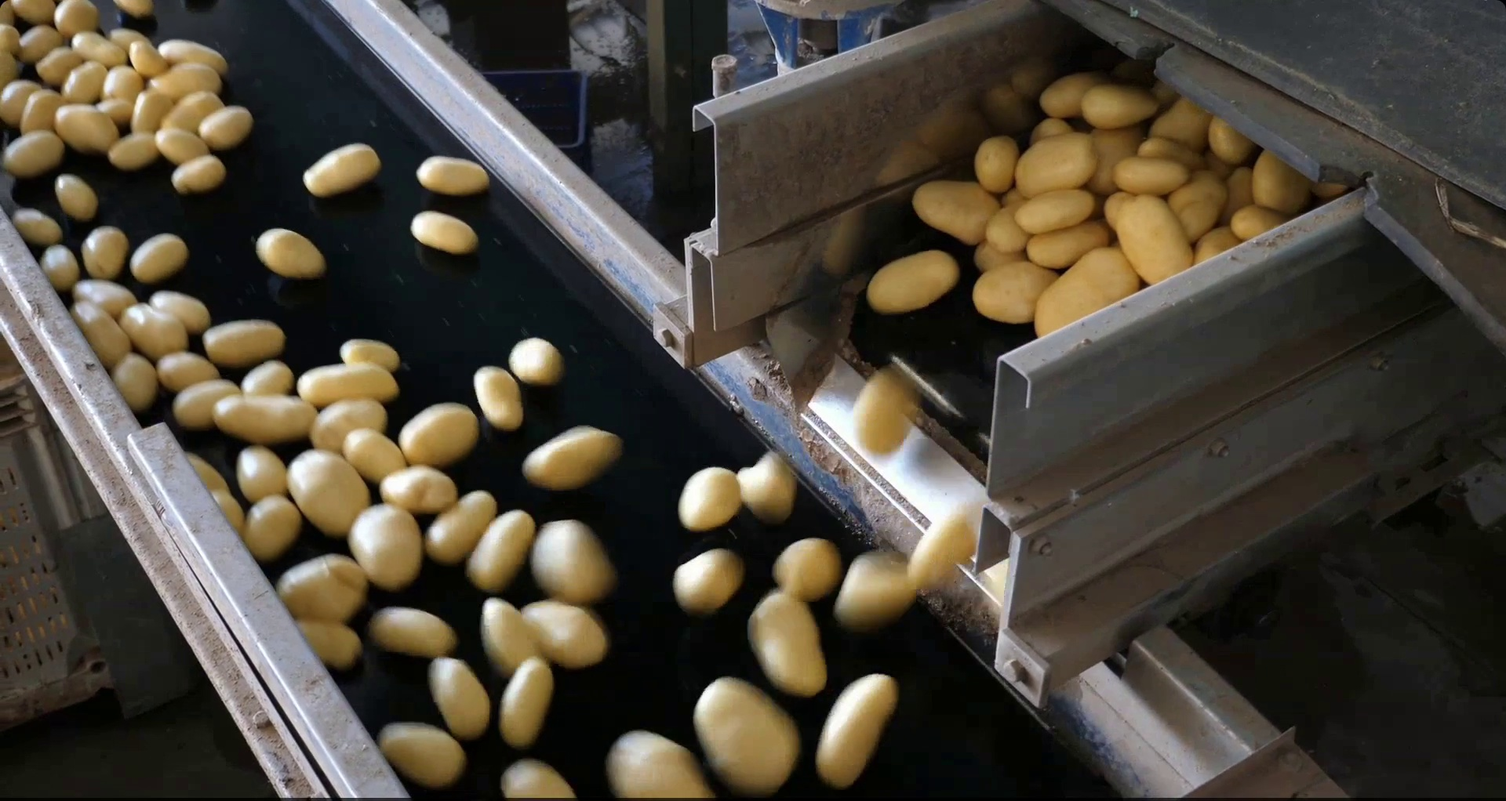potato: (686, 669, 807, 801), (1024, 241, 1150, 343), (806, 669, 906, 793), (740, 582, 831, 700), (596, 723, 721, 801), (902, 499, 986, 602), (829, 540, 921, 634), (517, 421, 630, 496), (1113, 187, 1199, 285), (526, 513, 619, 603), (283, 446, 372, 538), (515, 590, 610, 674), (660, 543, 761, 622), (856, 243, 963, 317), (847, 357, 922, 462), (372, 714, 474, 789), (907, 171, 1002, 251), (345, 494, 420, 592), (419, 485, 500, 575), (272, 551, 371, 624), (491, 652, 560, 753), (968, 256, 1066, 326), (465, 502, 538, 595), (392, 396, 481, 471), (208, 390, 326, 445), (361, 598, 460, 663), (428, 652, 492, 746), (1014, 129, 1100, 198), (769, 533, 848, 608), (304, 393, 394, 458), (673, 456, 744, 538), (732, 444, 800, 528), (475, 596, 540, 680), (295, 138, 386, 198), (244, 223, 328, 287), (291, 357, 404, 404), (1019, 219, 1119, 271), (194, 317, 293, 368), (118, 298, 191, 365), (1011, 183, 1100, 237), (69, 295, 133, 369), (290, 609, 363, 673), (1071, 78, 1161, 128), (1244, 142, 1309, 210), (409, 150, 499, 199), (170, 373, 244, 432), (51, 99, 122, 160), (238, 493, 299, 563), (403, 205, 483, 257), (470, 360, 528, 431), (496, 756, 587, 801), (125, 228, 193, 288), (1087, 118, 1140, 192), (377, 463, 462, 509), (230, 440, 289, 503), (504, 332, 568, 390), (3, 125, 70, 180), (109, 349, 161, 419), (78, 219, 132, 285), (1152, 89, 1212, 148), (342, 426, 408, 479), (1035, 69, 1102, 121), (1111, 156, 1189, 200), (337, 329, 406, 378), (147, 287, 213, 338), (1164, 179, 1217, 242), (151, 346, 222, 392), (158, 90, 229, 136), (972, 128, 1020, 194), (193, 100, 258, 148), (167, 150, 230, 199), (154, 34, 231, 73), (34, 237, 82, 299), (49, 169, 101, 224), (145, 60, 224, 96), (238, 354, 299, 400), (69, 276, 138, 316), (104, 127, 163, 172), (1188, 219, 1242, 268), (150, 126, 212, 168), (187, 445, 232, 502), (981, 203, 1033, 252), (1201, 111, 1254, 159), (64, 28, 129, 67), (9, 203, 64, 249), (58, 58, 111, 104), (1, 76, 45, 131), (1018, 113, 1077, 154), (1137, 132, 1200, 170), (129, 87, 171, 141), (18, 86, 64, 135), (208, 484, 249, 537), (1231, 204, 1287, 241), (35, 42, 82, 86), (98, 63, 145, 103), (15, 20, 60, 60), (965, 239, 1015, 271), (52, 1, 100, 34), (94, 94, 140, 126), (126, 38, 171, 70), (1226, 161, 1255, 209), (1095, 180, 1130, 218), (107, 23, 149, 51), (7, 2, 63, 22), (107, 1, 165, 19), (1313, 179, 1347, 198), (1000, 181, 1026, 205), (2, 17, 19, 50), (5, 47, 19, 85)
